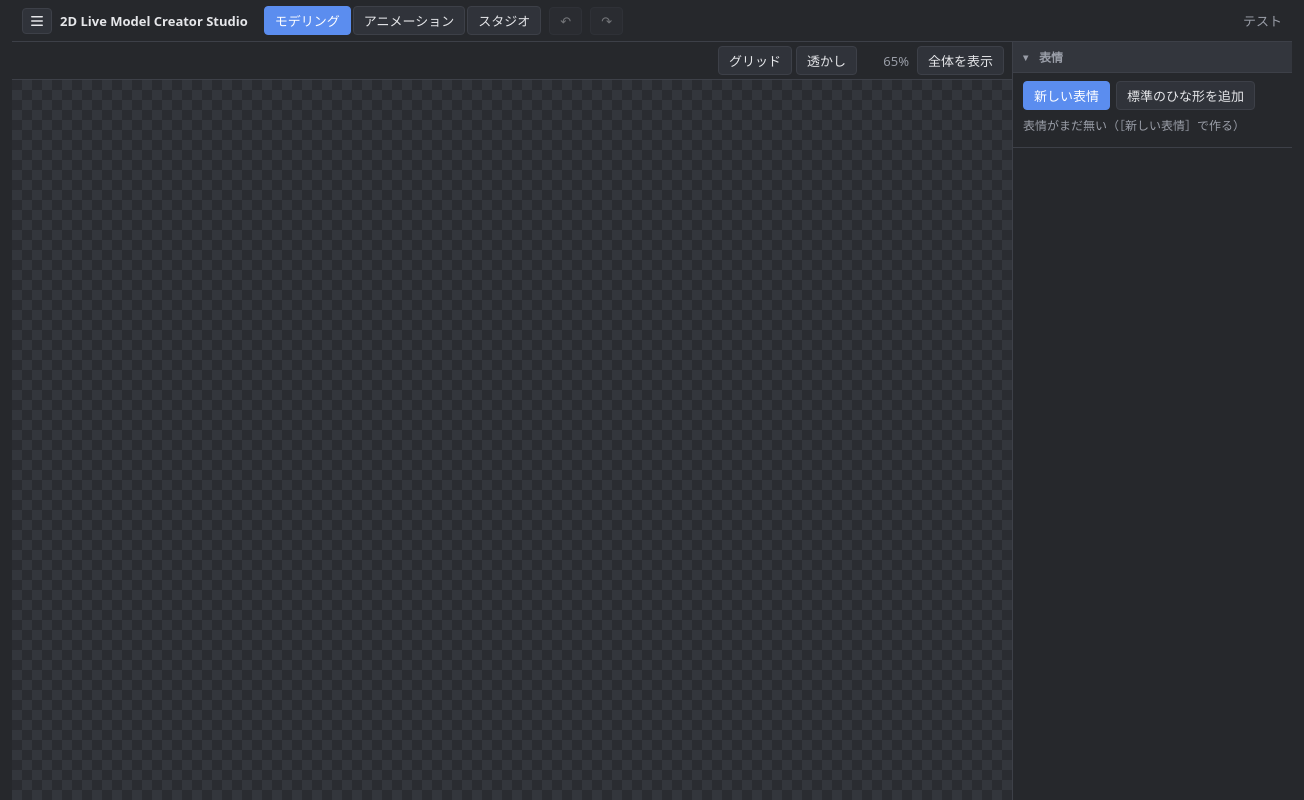
Test: モデリングの「表情」パネル › 標準の表情のひな形（値は空）をまとめて足す。全部あれば押せない
Click the button "標準のひな形を追加". click: (1186, 96)
box: 1116,81 -> 1255,110
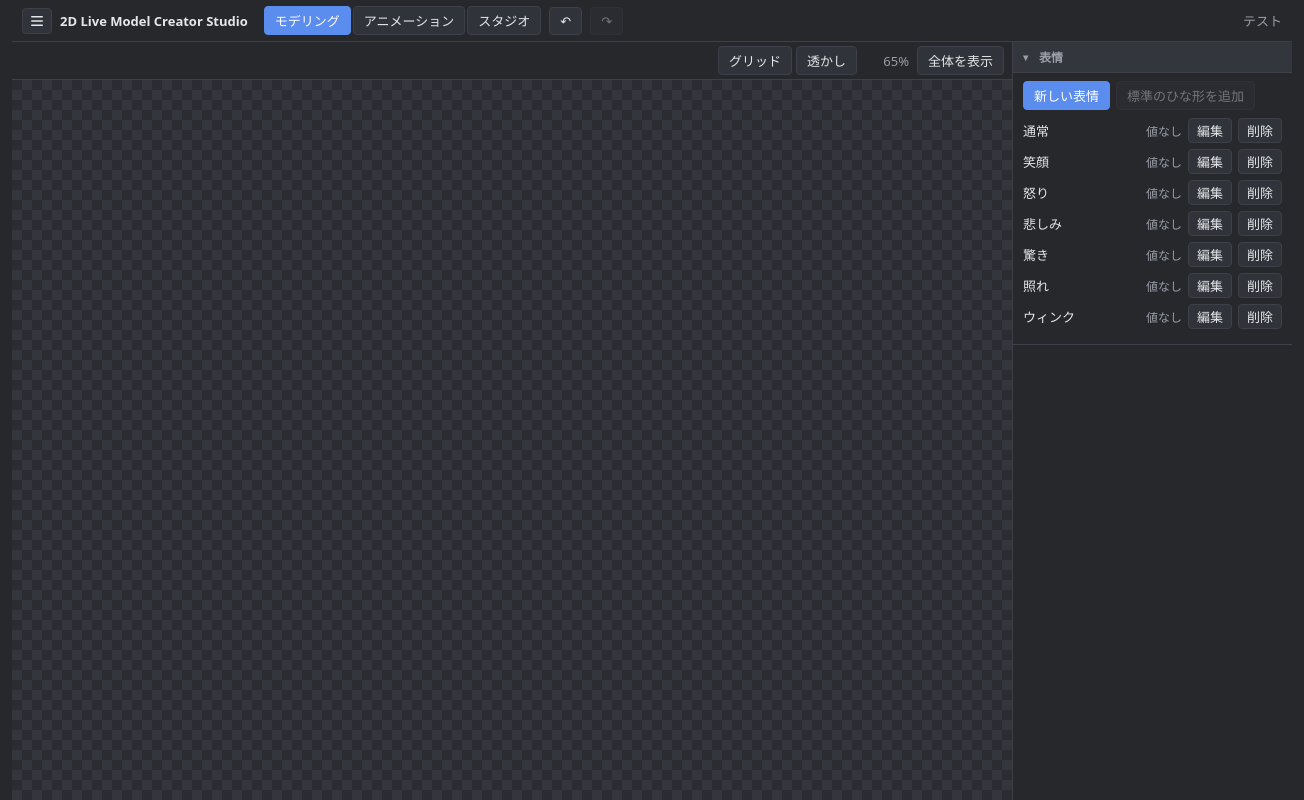
expect the text "値なし" is shown 7 times: met
expect the button "標準のひな形を追加" is disabled: met, box 1116,81 -> 1255,110
